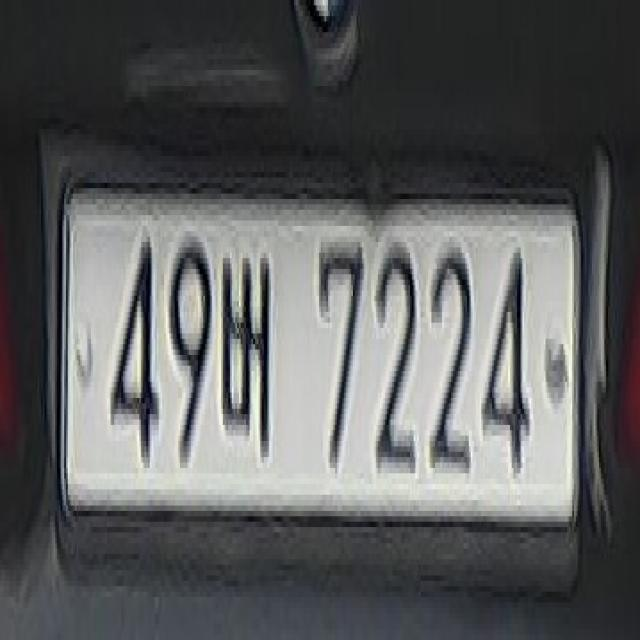2: (425, 223, 472, 491), (373, 231, 418, 484)
4: (480, 224, 538, 486), (109, 217, 163, 462)
7: (314, 213, 364, 482)
9: (165, 230, 212, 468)
beo: (217, 231, 276, 479)
license_plate: (52, 153, 588, 582)
